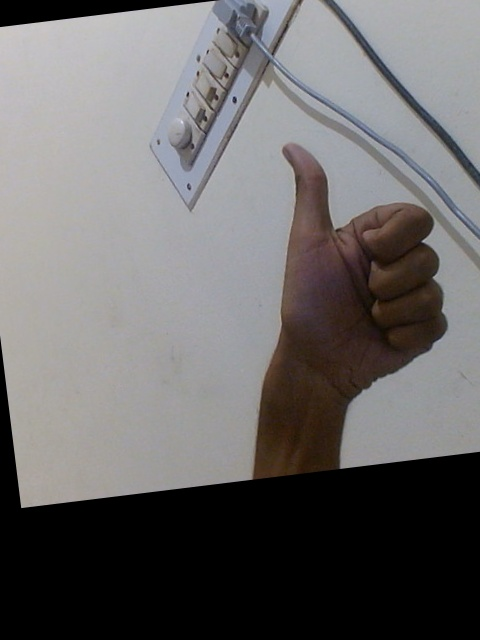hand: (265, 136, 452, 411)
